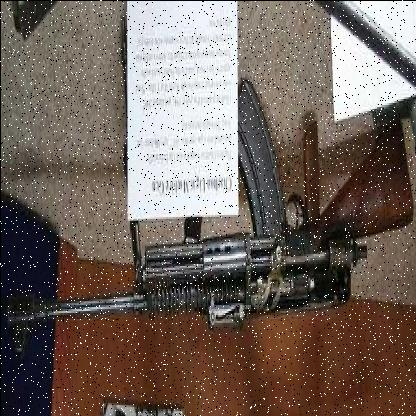rifle: (4, 62, 412, 386)
